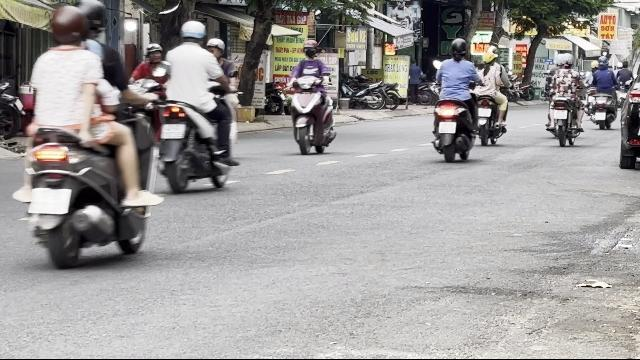helmet: (46, 5, 90, 47), (78, 0, 108, 40), (178, 19, 206, 45), (144, 42, 164, 62), (206, 36, 224, 58), (449, 38, 467, 58), (302, 38, 318, 57), (482, 49, 498, 64)
licenseplate: (30, 188, 70, 212), (161, 123, 183, 137), (439, 122, 457, 134), (477, 107, 491, 117)
motorcyclist: (10, 0, 162, 268), (156, 19, 238, 193), (428, 38, 480, 162), (285, 38, 339, 154), (474, 47, 510, 145)
